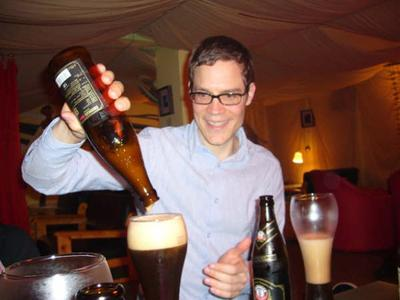person: (22, 36, 286, 300)
